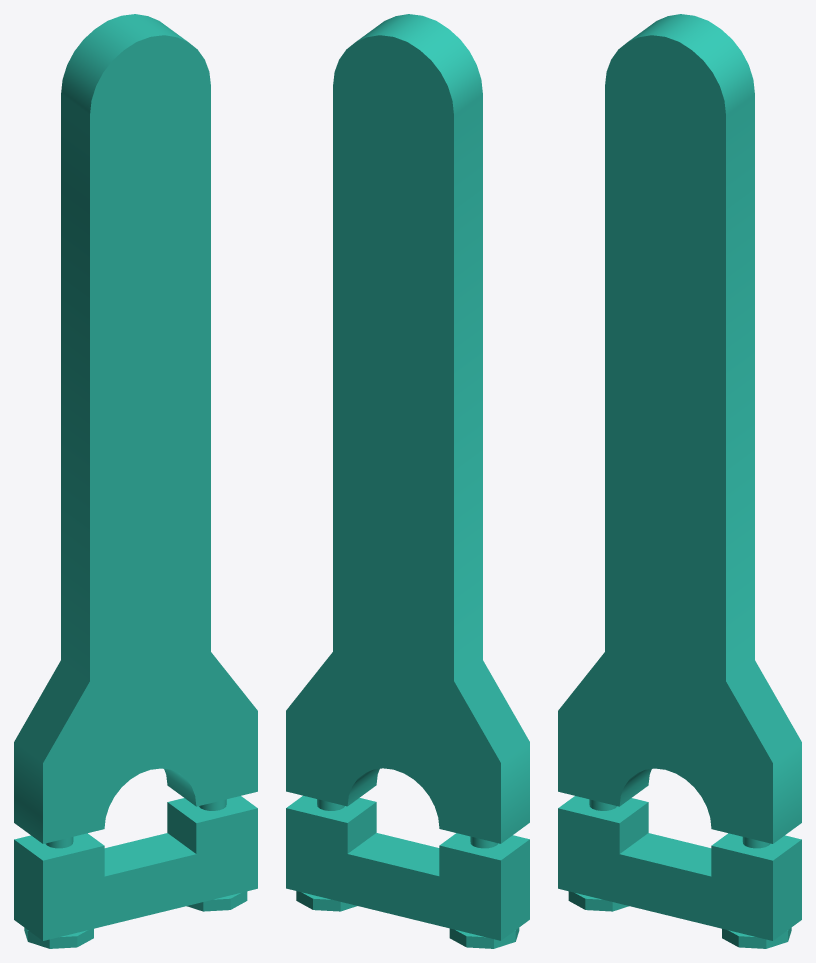
The model's file is Lever_Electric_Cabinet.fbx.
3 renders of one model, left to right at view 1: azimuth 30°, elevation 25°; view 2: azimuth 150°, elevation 25°; view 3: azimuth 330°, elevation 25°, orthographic.
Visible parts, largest first — view 1: Lever_Electric_Cabinet; view 2: Lever_Electric_Cabinet; view 3: Lever_Electric_Cabinet.
Part boxes in pixels (x1,y1,x2,y2): Lever_Electric_Cabinet: (14,14,257,948); Lever_Electric_Cabinet: (286,14,529,948); Lever_Electric_Cabinet: (558,14,801,948).
Size of the model in its own units: 5.17 by 20.35 by 1.5.
